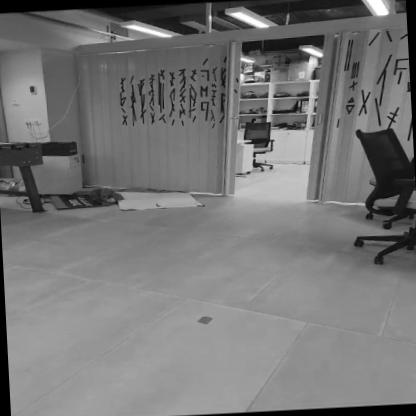open: (218, 36, 334, 200)
